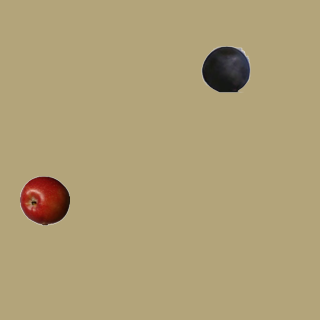Apple Braeburn: (19, 175, 69, 225)
Grape Blue: (200, 43, 250, 93)
